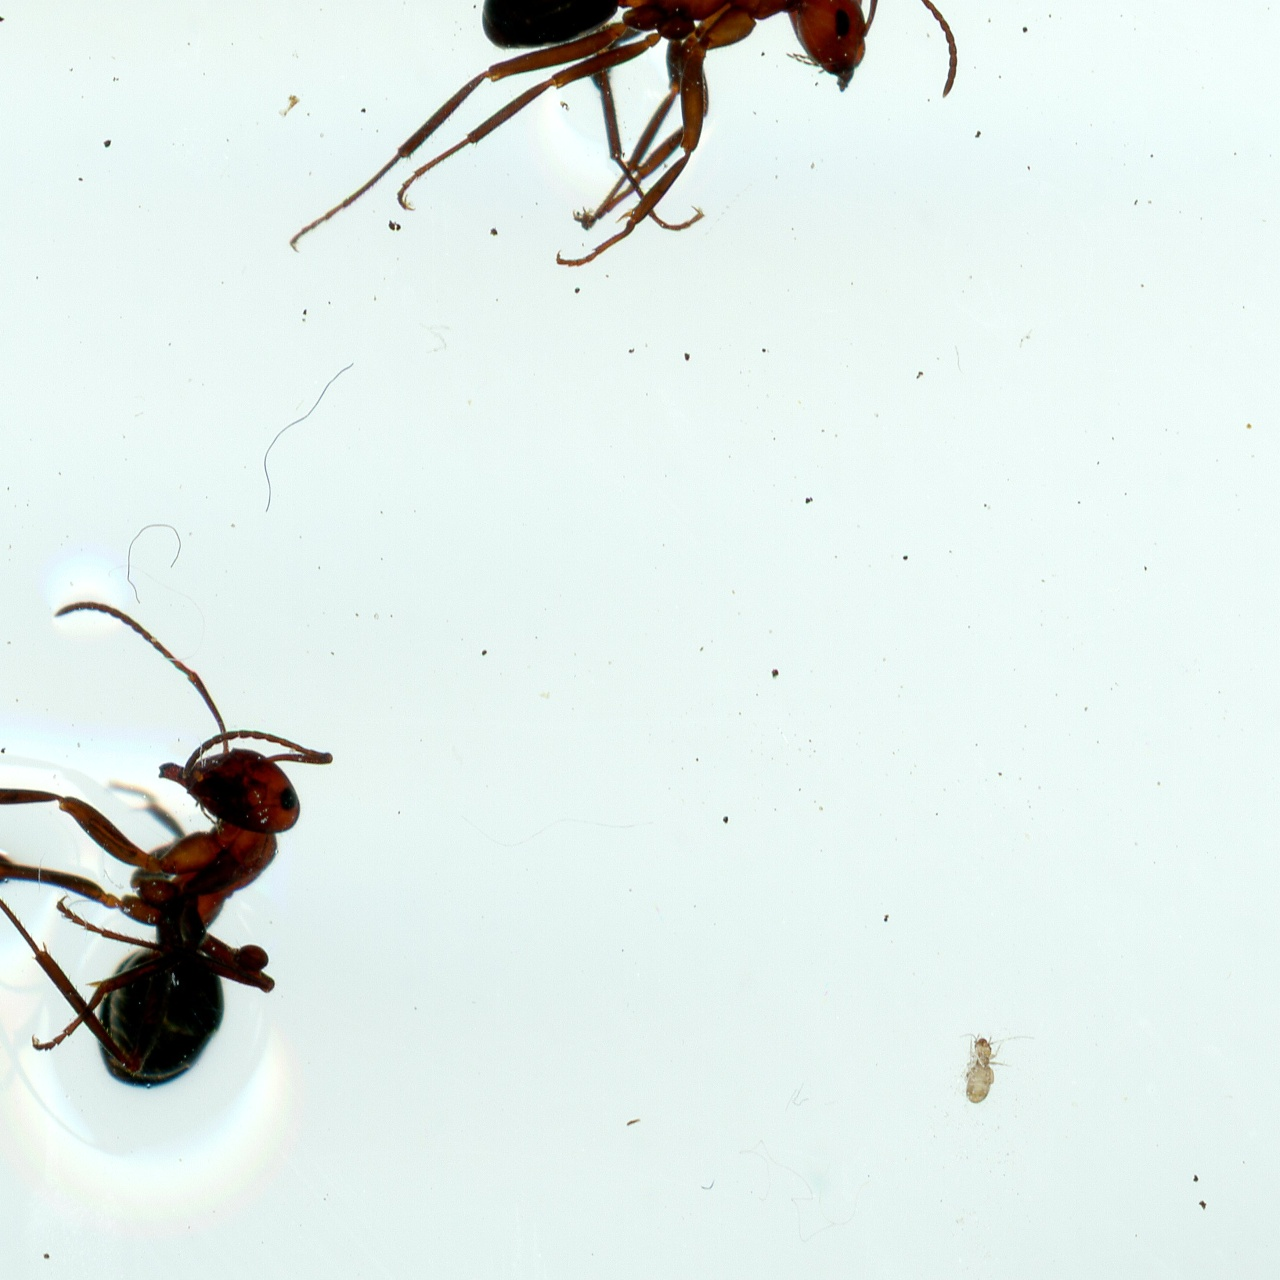arthropod: (284, 0, 980, 278), (0, 595, 341, 1108), (957, 1033, 1040, 1110)
